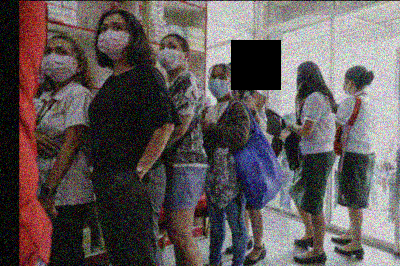with_mask: (96, 20, 131, 61), (42, 43, 78, 82), (158, 41, 182, 71), (208, 71, 231, 98), (342, 77, 354, 97)
